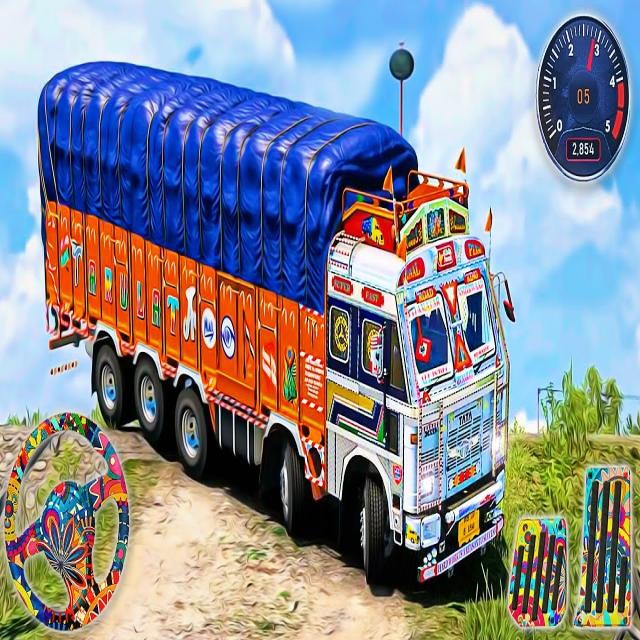truck: (38, 62, 510, 582)
